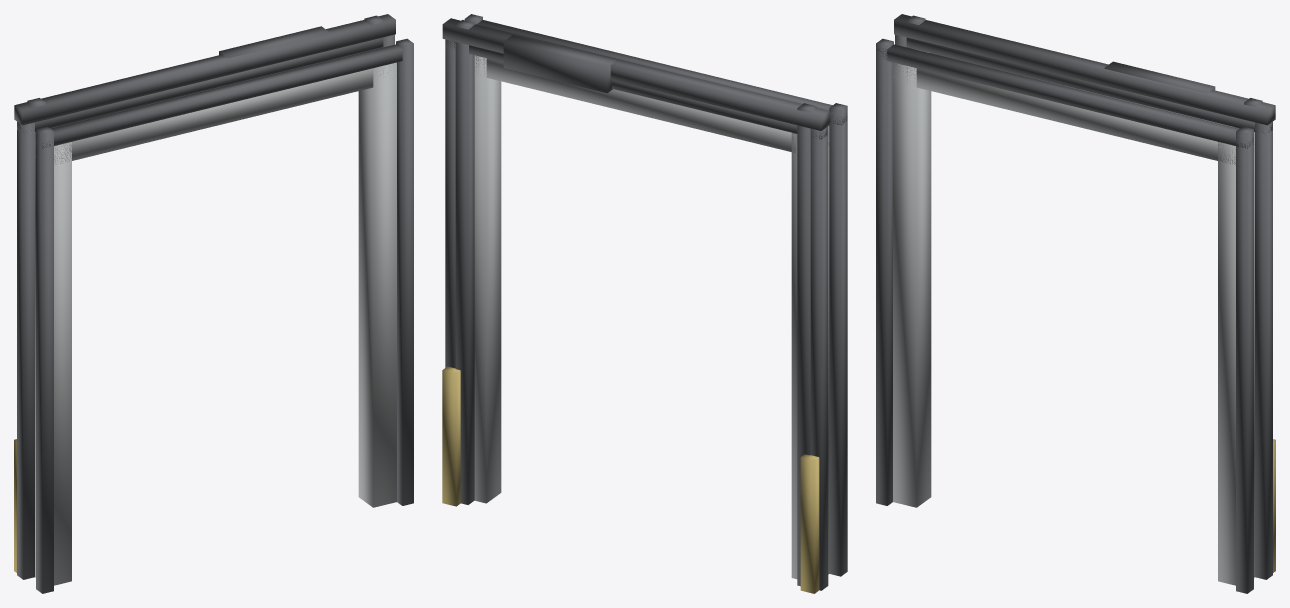
The model's file is bay_opening_loading_bay_w240_h320_d20.glb.
3 renders of one model, left to right at view 1: azimuth 30°, elevation 25°; view 2: azimuth 150°, elevation 25°; view 3: azimuth 330°, elevation 25°, orthographic.
Parts seen in each view (by area): view 1: world; view 2: world; view 3: world.
Part boxes in pixels (<box>): world: <box>14,14,413,593</box>; world: <box>442,14,847,593</box>; world: <box>876,14,1275,593</box>.
Size of the model in its own units: 2.98 by 3.59 by 0.422.
